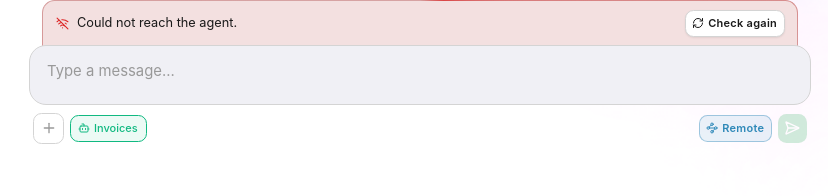
composer readiness refusal › still pastes a picked note on a double Enter, which sends nothing
The width and height of the screenshot is (828, 196).
Type "?" into the dropdown at (420, 71), box [30,46,810,96]
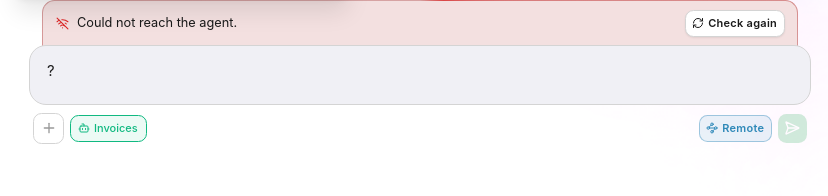
Press Enter in the dropdown, box [30,46,810,96]
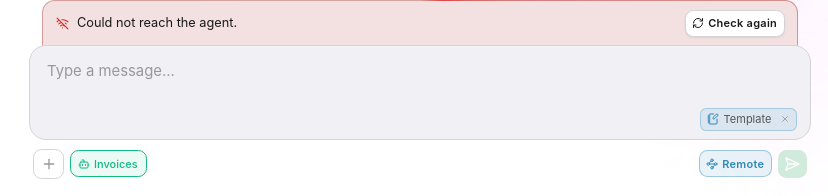
Expected: the dropdown is empty
Press Enter in the dropdown, box [30,46,810,96]
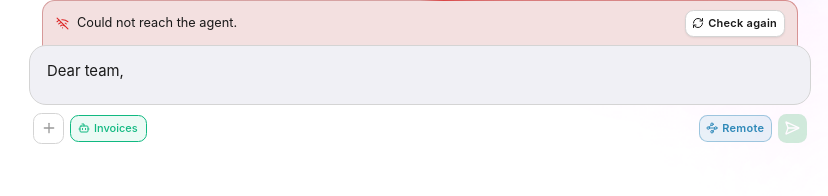
Expected: the dropdown holds "Dear team,", [30,46,810,96]
